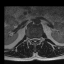CCS_normal: (34, 36, 36, 44)
LFS_normal: (38, 36, 40, 41)
LLS_normal: (36, 36, 38, 42)
RFS_normal: (30, 36, 32, 42)
RLS_normal: (32, 36, 34, 42)
